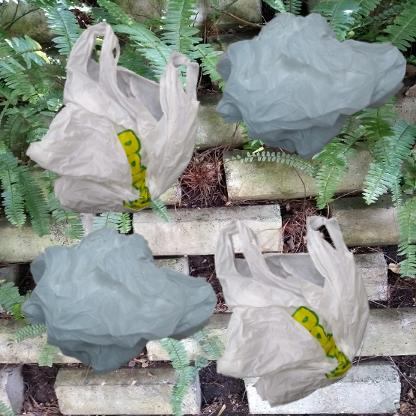bolsa: (10, 10, 257, 281), (10, 213, 239, 404), (213, 213, 372, 409), (213, 10, 409, 162)
